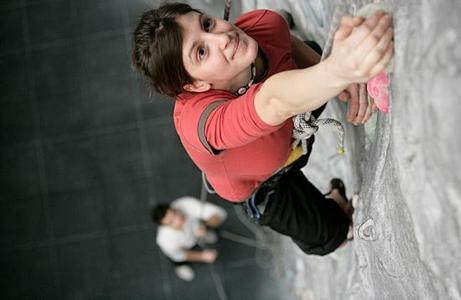person: (132, 3, 397, 259)
